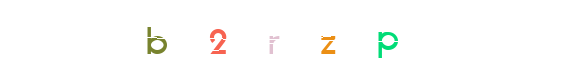2: (222, 0, 302, 80)
B: (115, 0, 195, 80)
P: (346, 0, 426, 80)
R: (223, 0, 303, 80)
Z: (253, 0, 333, 80)
